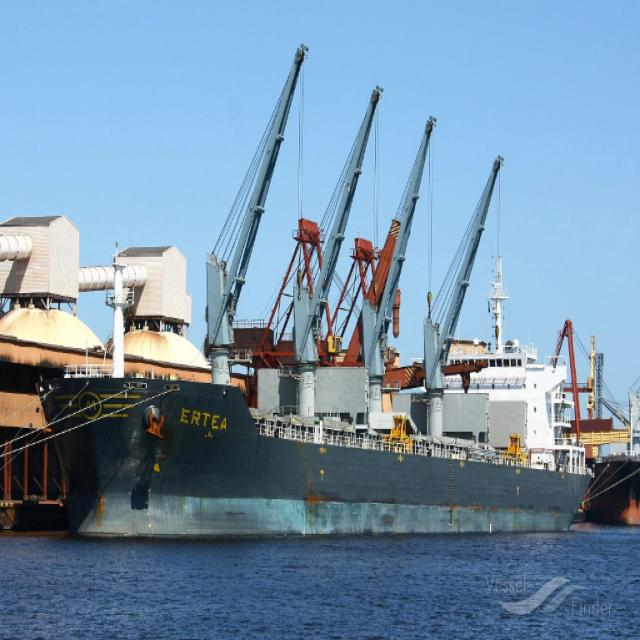OCR: (177, 402, 226, 435)
